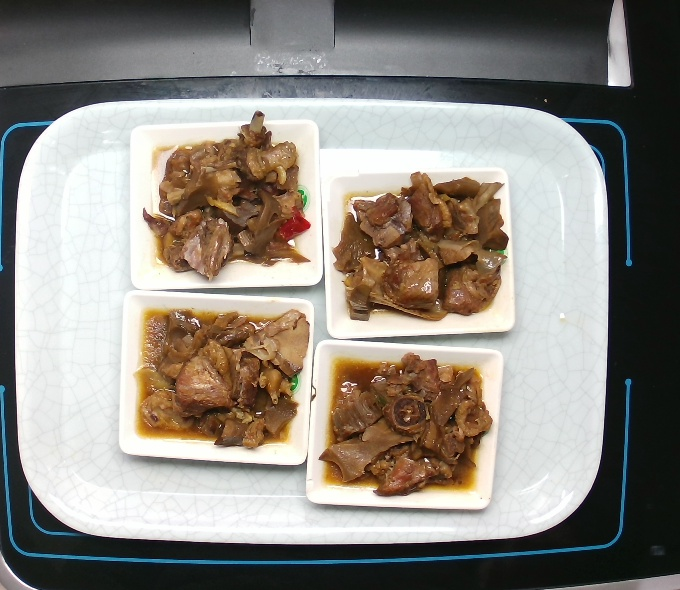wcq-YaRouSunGan: (141, 107, 313, 282), (330, 170, 510, 323), (132, 303, 310, 452), (316, 350, 494, 499)
